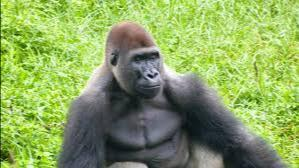gorille_Autres: (61, 15, 296, 168)
